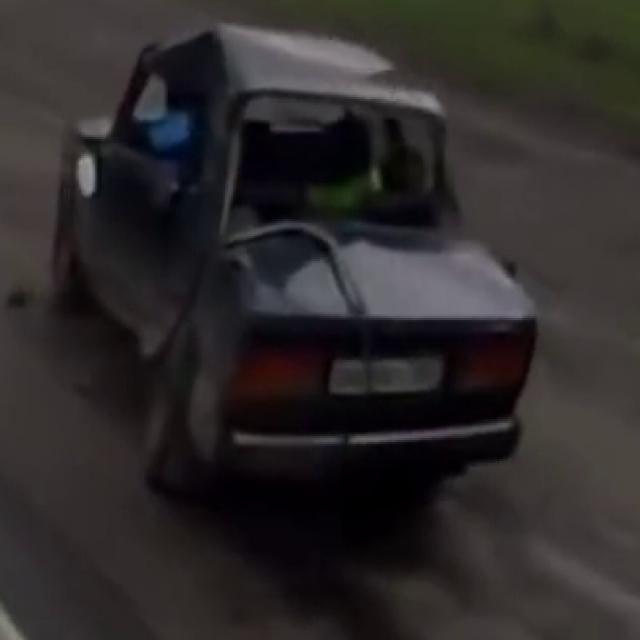accident: (48, 19, 526, 488)
